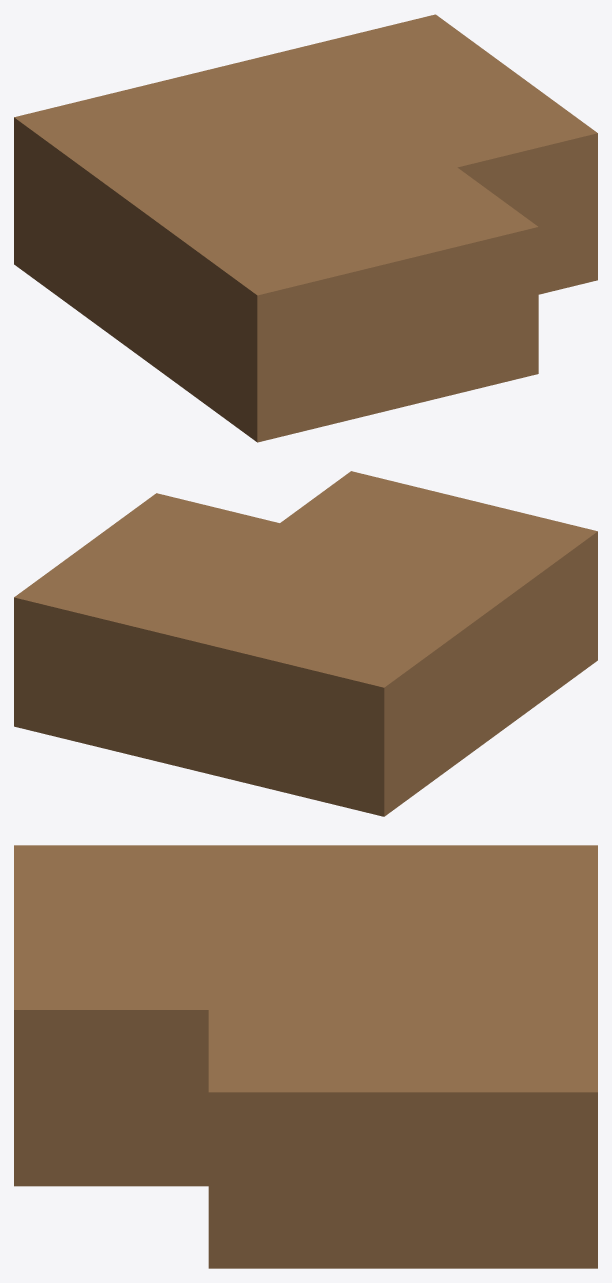
Rendered from walkway_corner.glb.
The picture shows the model from 3 angles, top to bottom: view 1: azimuth 30°, elevation 25°; view 2: azimuth 150°, elevation 25°; view 3: azimuth 270°, elevation 25°; orthographic projection. The views are drawn at different scales.
Visible parts, largest first — view 1: walkway_corner; view 2: walkway_corner; view 3: walkway_corner.
Part boxes in pixels (box(x1,y1,x2,y2)): walkway_corner: box(14, 14, 597, 442); walkway_corner: box(14, 471, 597, 816); walkway_corner: box(14, 845, 597, 1268).
Size of the model in its own units: 0.75 by 0.25 by 0.75.
Materials: 1 (1 with a texture image).
